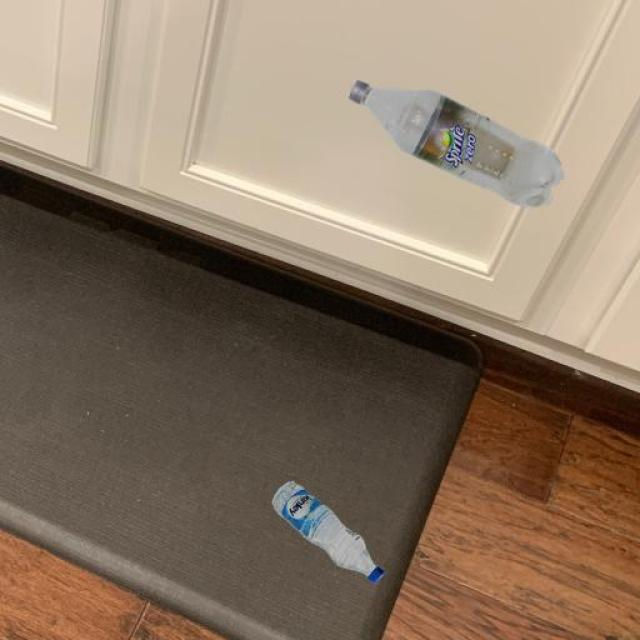bottle: (333, 75, 576, 224), (261, 474, 410, 592)
